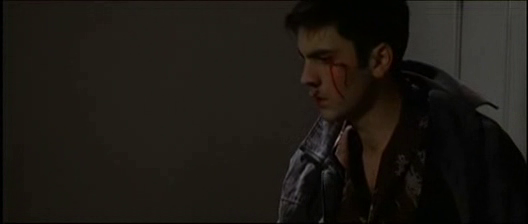face: (292, 33, 355, 120)
mcu: (1, 1, 528, 224)
person: (277, 1, 526, 224)
